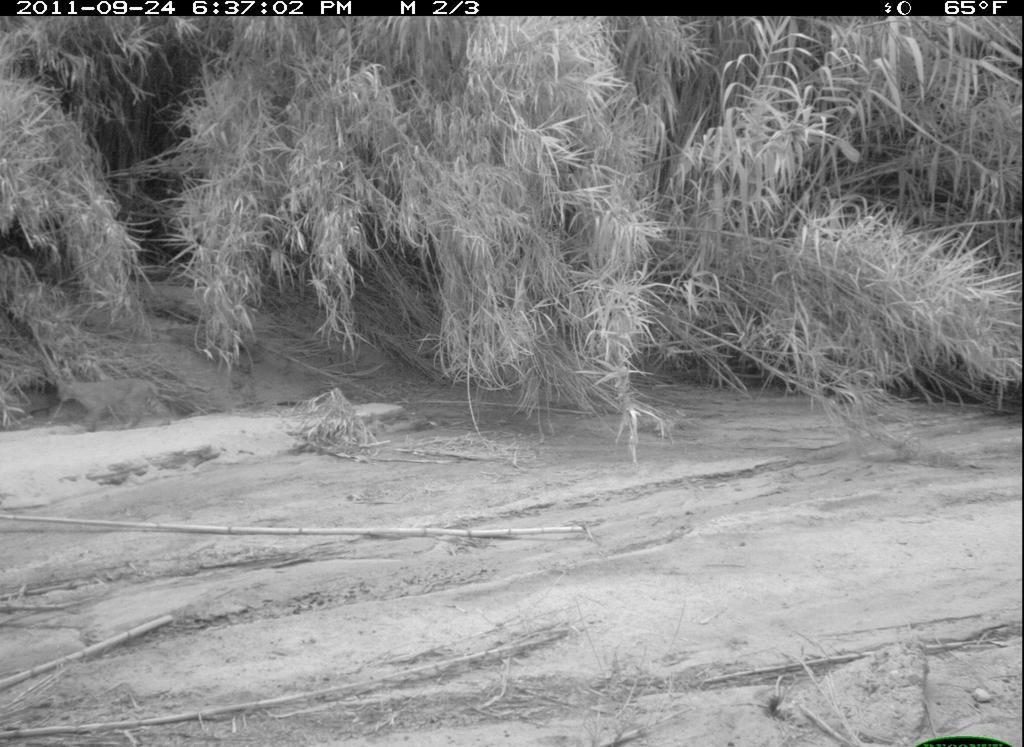bobcat: (50, 367, 177, 439)
